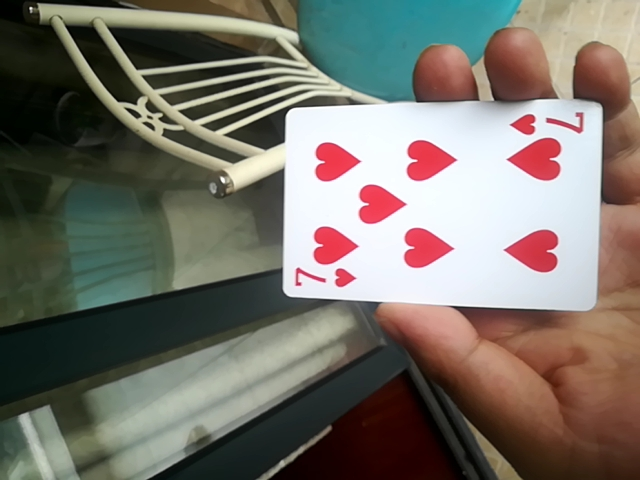hx 7: (277, 98, 602, 312)
